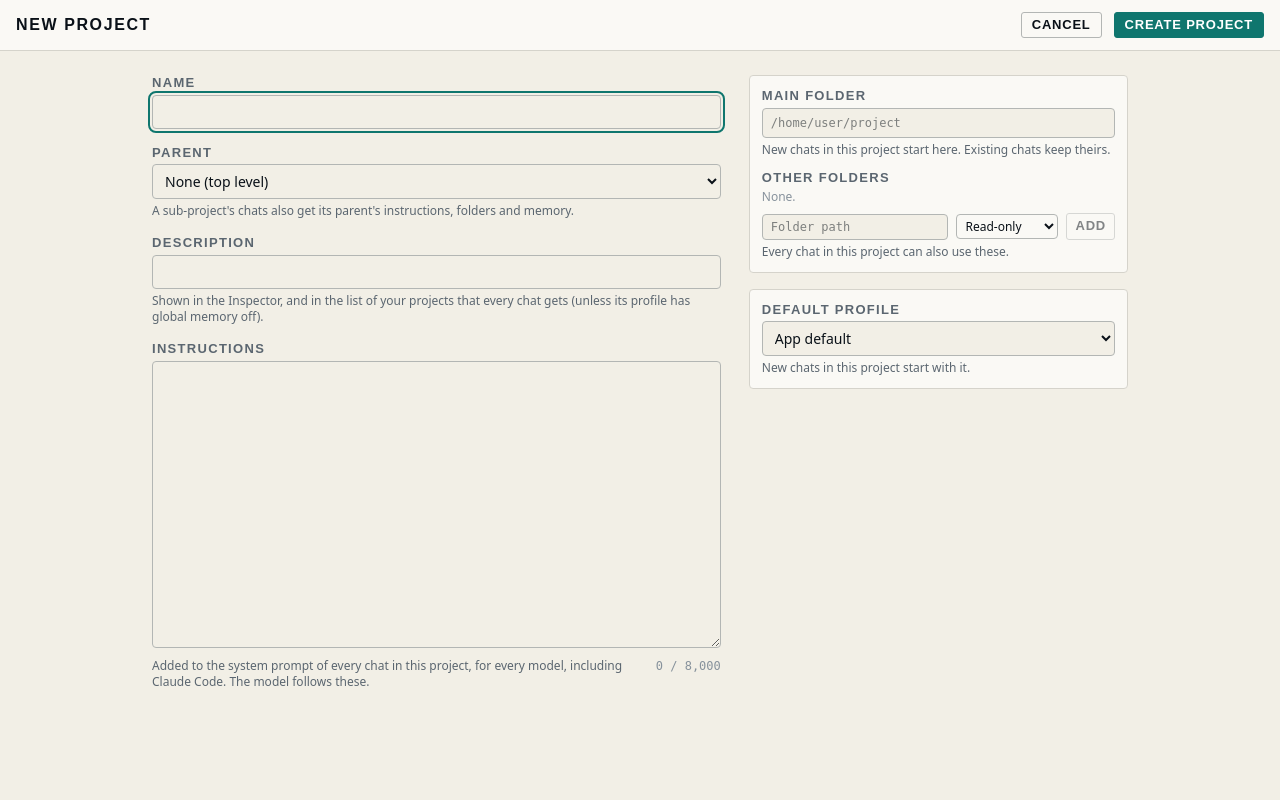
Test case: ProjectView, creating › asks for a name before sending anything
Click the button "Create project".
click(1189, 25)  # box [1114,12,1264,38]
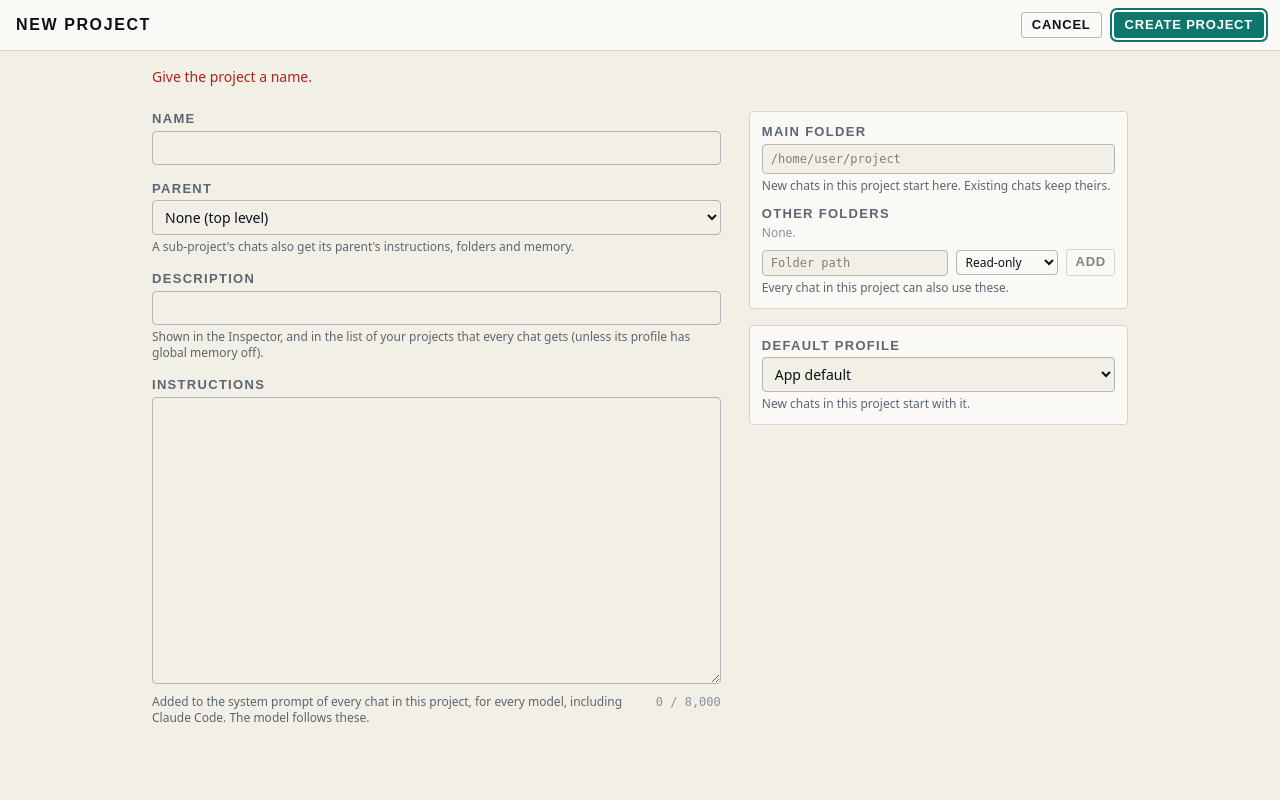
Check: the message reads "Give the project a name.", box [152,67,312,86]
